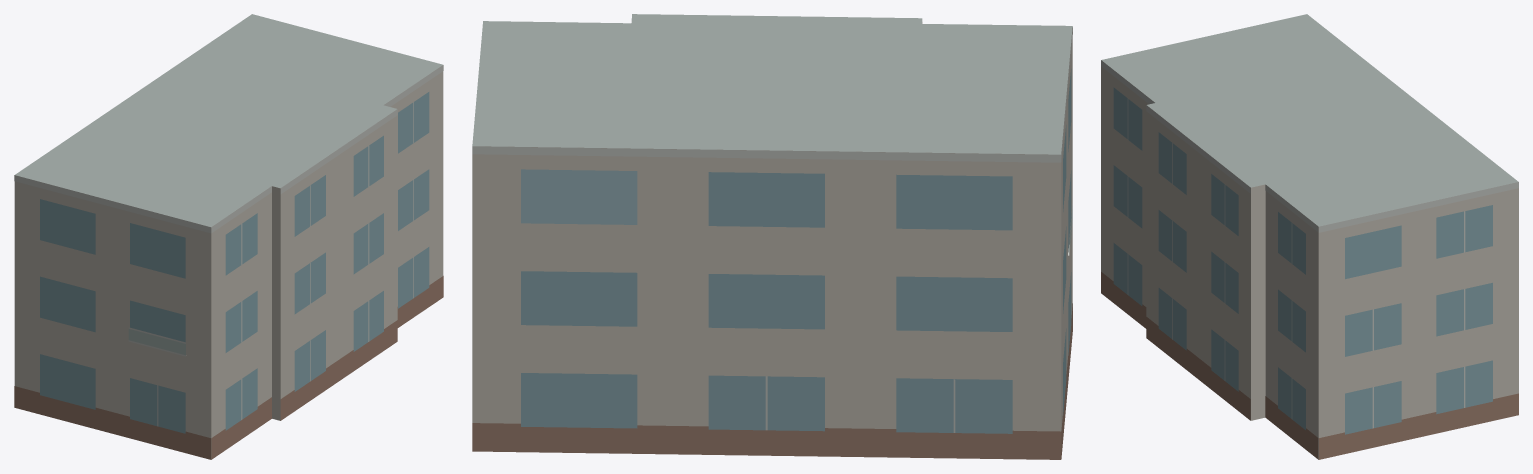
Rendered from survey-upis-32707312.glb.
3 renders of one model, left to right at view 1: azimuth 30°, elevation 25°; view 2: azimuth 150°, elevation 25°; view 3: azimuth 270°, elevation 25°, orthographic. The views are drawn at different scales.
Parts seen in each view (by area): view 1: survey-upis-32707312.tmp; view 2: survey-upis-32707312.tmp; view 3: survey-upis-32707312.tmp.
Part boxes in pixels (bbox=[...]): survey-upis-32707312.tmp: bbox=[14, 14, 443, 459]; survey-upis-32707312.tmp: bbox=[472, 14, 1072, 459]; survey-upis-32707312.tmp: bbox=[1101, 14, 1518, 459].
Bounding box in the file's own units: 17.91 × 9.15 × 14.86.
